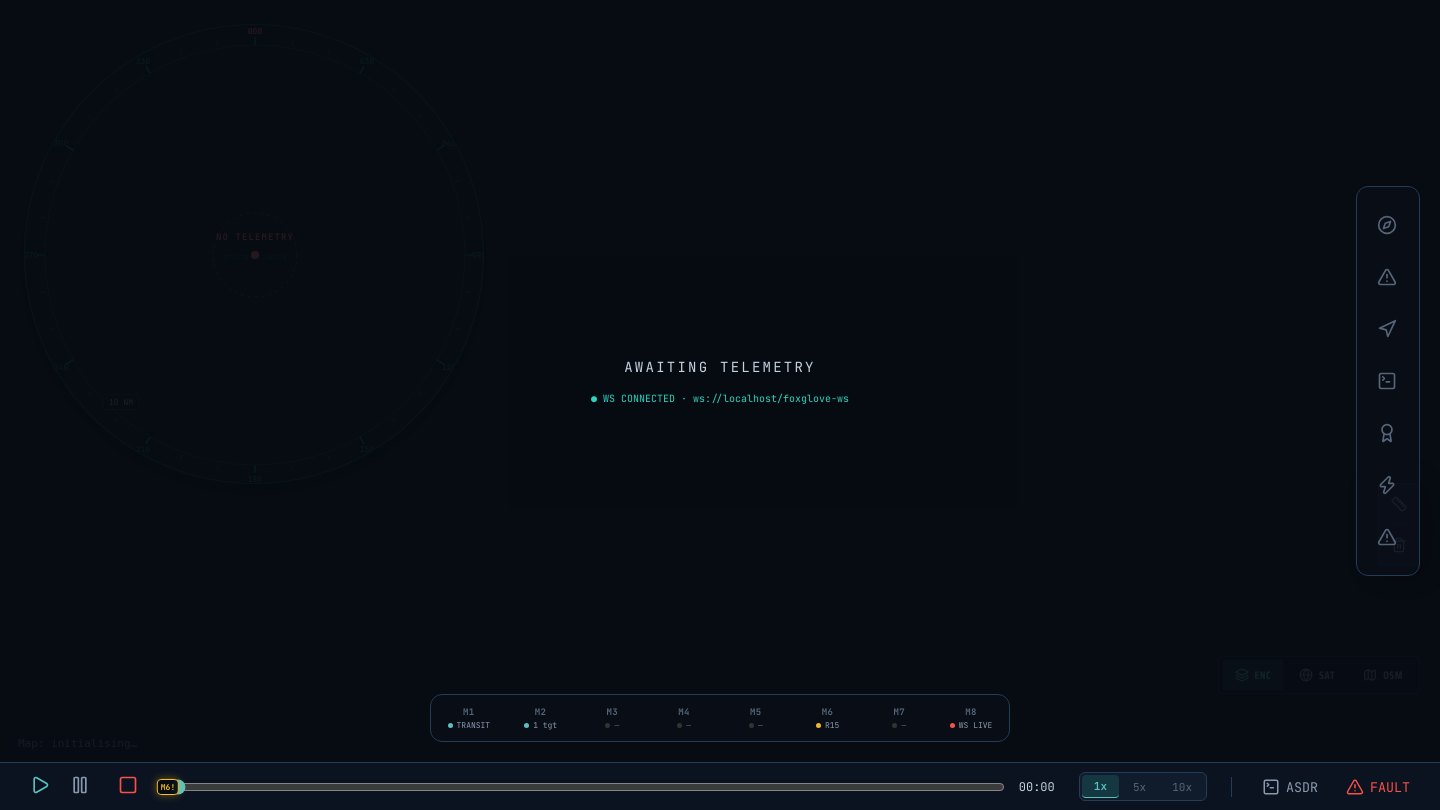
Test: SimulationMonitor › opens the cleared decision process panel without stale module details
Click the button with test id "right-tab-avoid" at (1388, 329), box [1366, 307, 1410, 351]
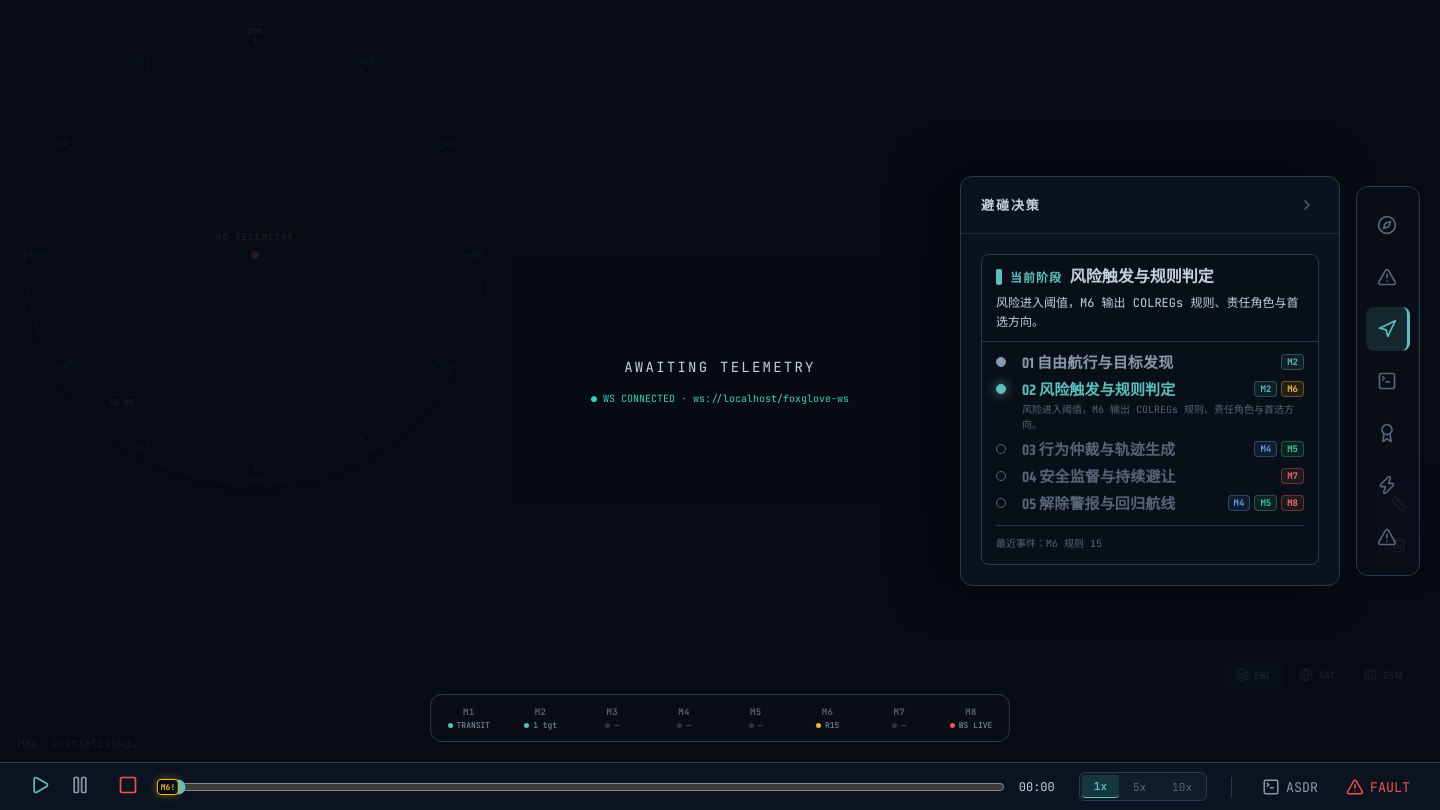
Expected: the element with test id "decision-process-panel" is shown, [981, 254, 1319, 565]
Expected: the text "风险触发与规则判定" is shown, [1070, 267, 1214, 286]
Expected: the text "当前阶段" is shown, [1010, 268, 1062, 287]
